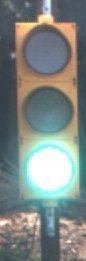Green: (9, 17, 86, 219)
